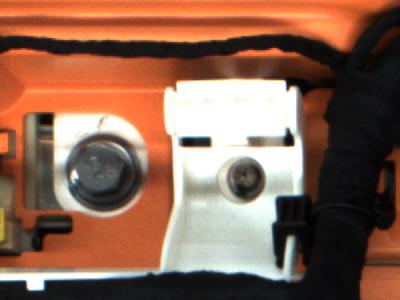nut_b: (63, 130, 145, 215)
